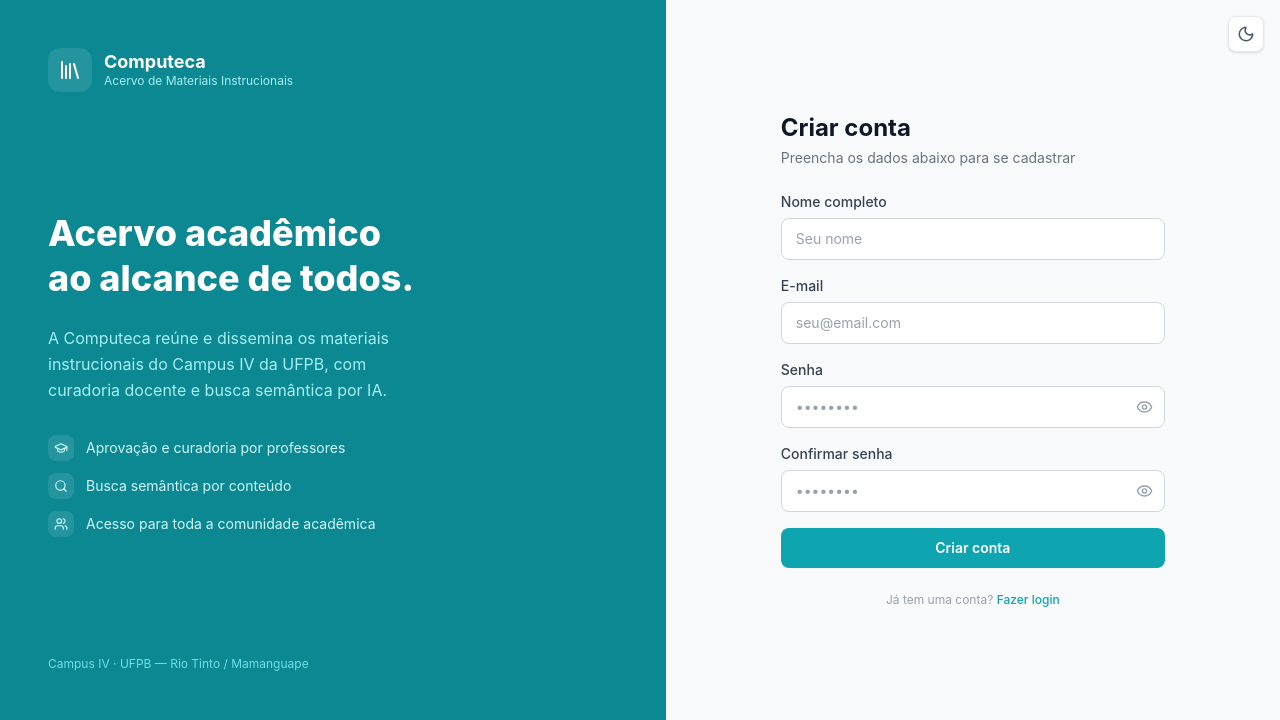
RegisterPage › valida senhas divergentes
Type "senha12345" into the password field labelled "Senha" at {"x": 973, "y": 407}, box x1=781 y1=386 x2=1165 y2=428
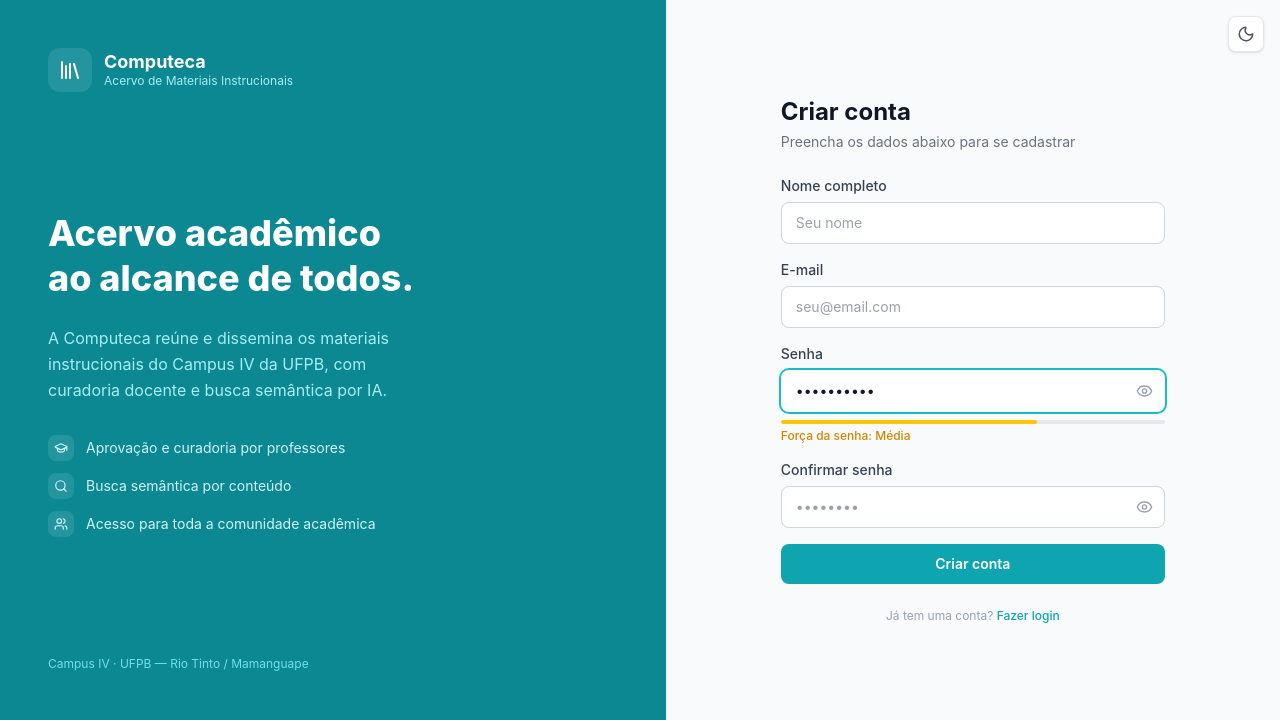
Type "outrasenha" into the password field labelled "Confirmar senha" at {"x": 973, "y": 507}, box x1=781 y1=486 x2=1165 y2=528
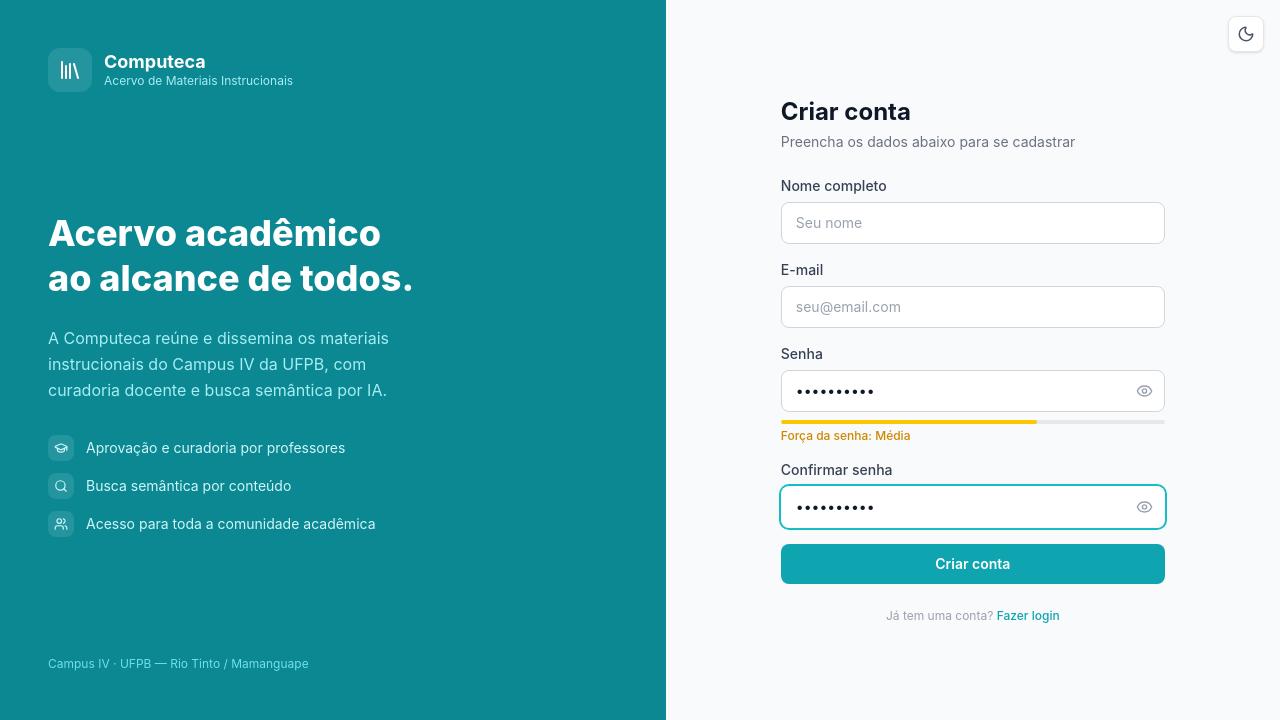
Click the button "Criar conta" at {"x": 973, "y": 564}, box x1=781 y1=544 x2=1165 y2=584
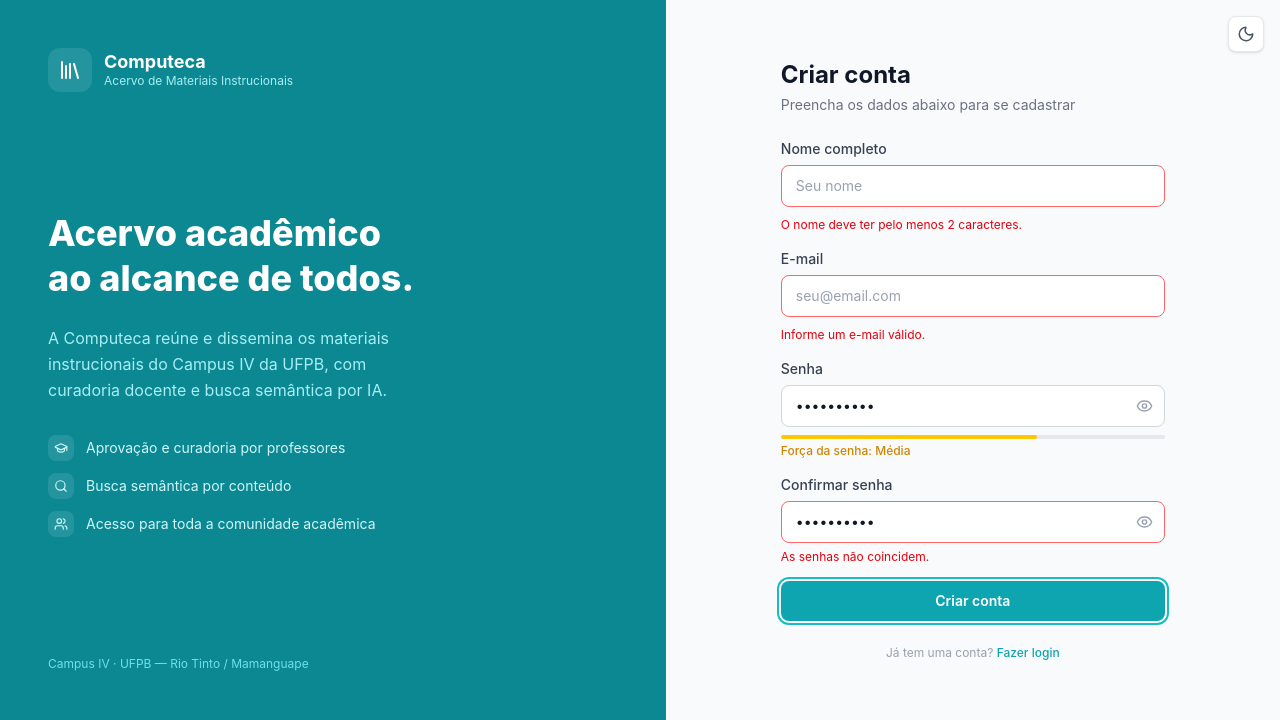
Check: the text "As senhas não coincidem." is shown, box x1=781 y1=549 x2=929 y2=564
